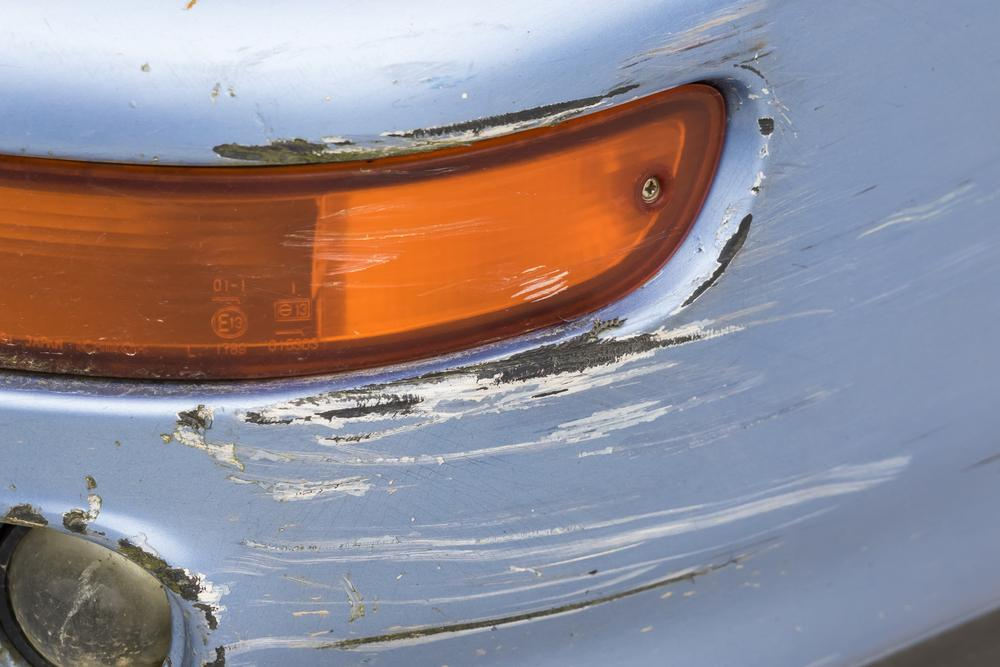scratch: (8, 0, 1000, 667)
